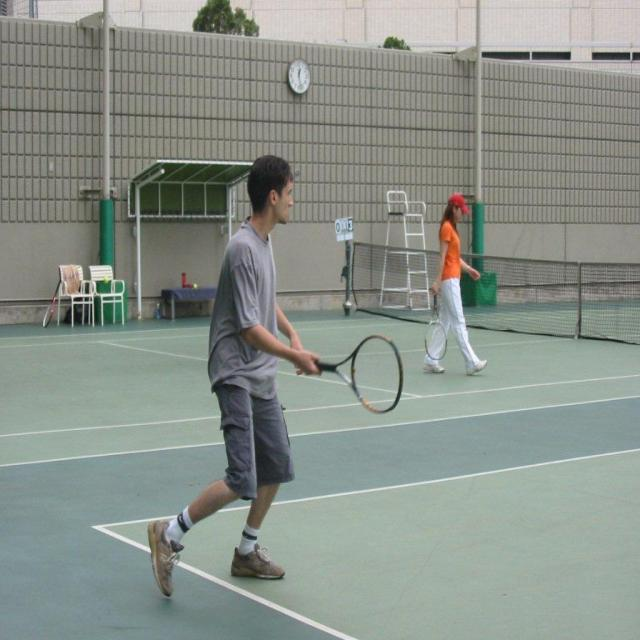nomask: (276, 175, 293, 223), (457, 206, 462, 222)
